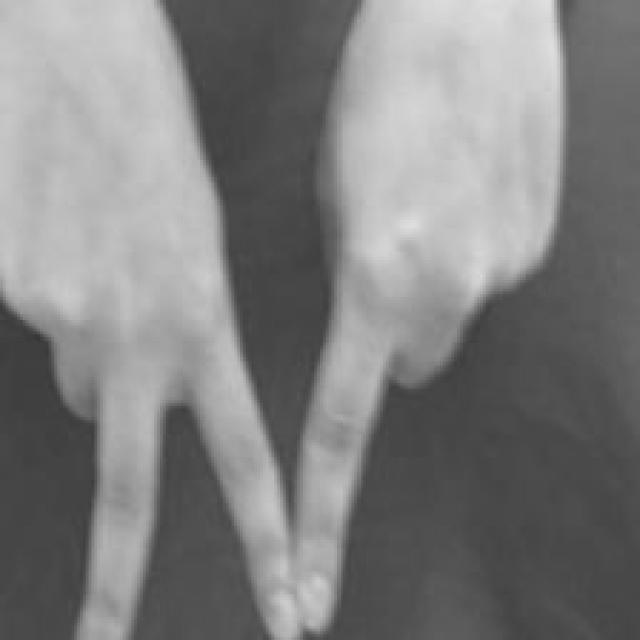N: (5, 17, 568, 640)
